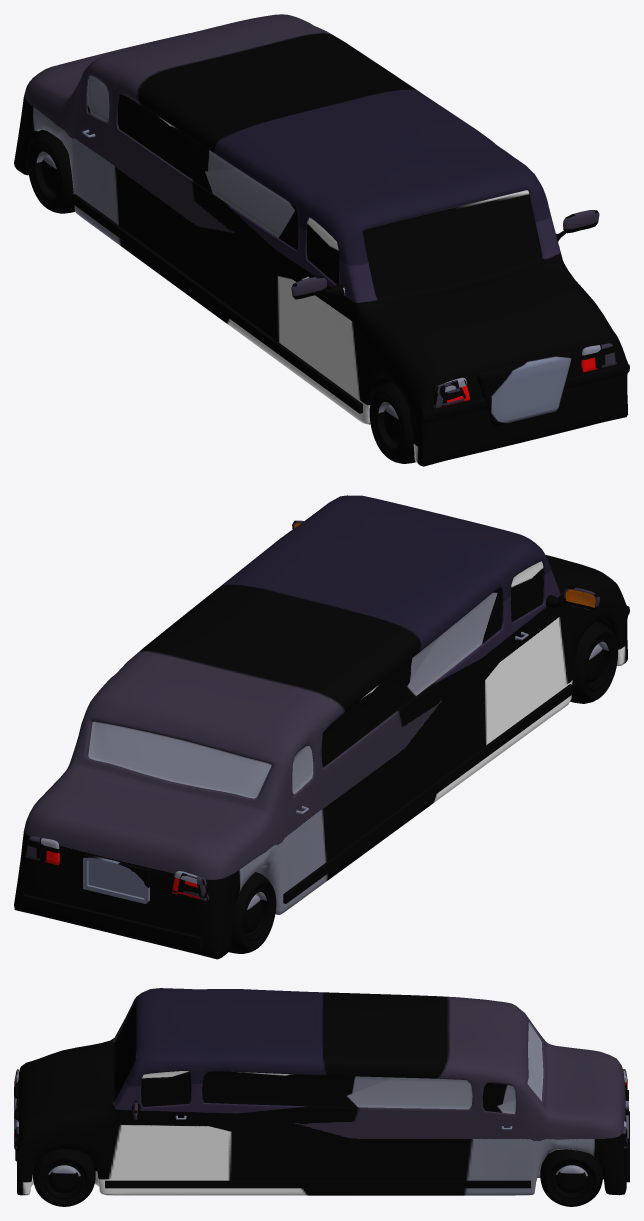
The model's file is Limousine.fbx.
3 views of the same model, one above another, from view 1: azimuth 30°, elevation 25°; view 2: azimuth 150°, elevation 25°; view 3: azimuth 270°, elevation 25° (orthographic). The views are drawn at different scales.
Visible parts, largest first — view 1: polySurface394, pCube17, pCube22, polySurface404, polySurface406, polySurface408, polySurface407, polySurface411, polySurface413; view 2: polySurface394, pCube22, polySurface406, polySurface404, pCube20, pCube19, polySurface410, polySurface409, polySurface413; view 3: polySurface394, pCube21, polySurface398, polySurface400.
Part boxes in pixels (x1,y1,x2,y2): polySurface394: (14, 14, 629, 466); pCube17: (477, 351, 571, 425); pCube22: (72, 194, 362, 413); polySurface404: (27, 132, 75, 213); polySurface406: (369, 381, 415, 463); polySurface408: (433, 377, 469, 408); polySurface407: (580, 343, 616, 372); polySurface411: (563, 210, 599, 233); polySurface413: (291, 276, 326, 299); polySurface394: (14, 495, 629, 959); pCube22: (283, 684, 573, 903); polySurface406: (570, 621, 617, 703); polySurface404: (229, 872, 276, 953); pCube20: (83, 853, 150, 904); pCube19: (23, 894, 202, 947); polySurface410: (172, 871, 209, 901); polySurface409: (25, 836, 59, 865); polySurface413: (563, 587, 599, 610); polySurface394: (15, 988, 626, 1195); pCube21: (105, 1180, 530, 1188); polySurface398: (540, 1149, 602, 1206); polySurface400: (33, 1149, 95, 1206).
Size of the model in its own units: 9.97 by 6.38 by 23.32.
